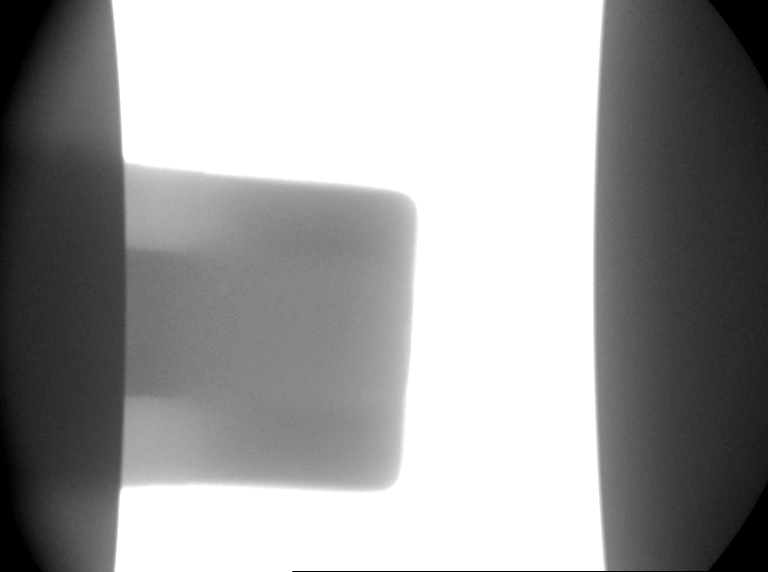defect: (358, 385, 386, 416)
